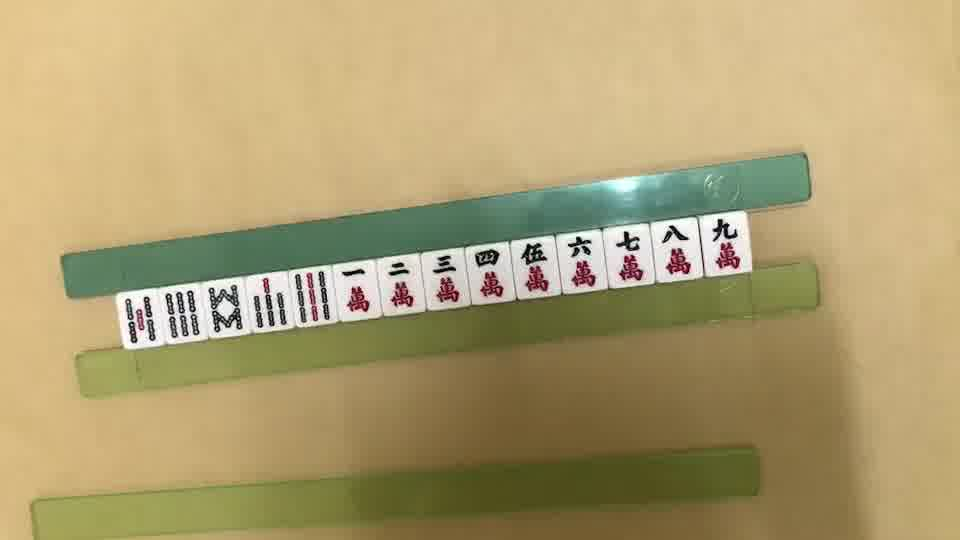1m: (341, 264, 369, 317)
2m: (388, 260, 411, 308)
3m: (431, 254, 460, 299)
4m: (474, 249, 504, 297)
5m: (522, 241, 551, 294)
5s: (122, 289, 158, 346)
6m: (564, 237, 595, 284)
6s: (164, 286, 202, 335)
7m: (618, 230, 644, 278)
7s: (254, 276, 289, 325)
8m: (660, 226, 692, 278)
8s: (209, 282, 241, 330)
9m: (711, 219, 741, 268)
9s: (293, 271, 329, 321)
